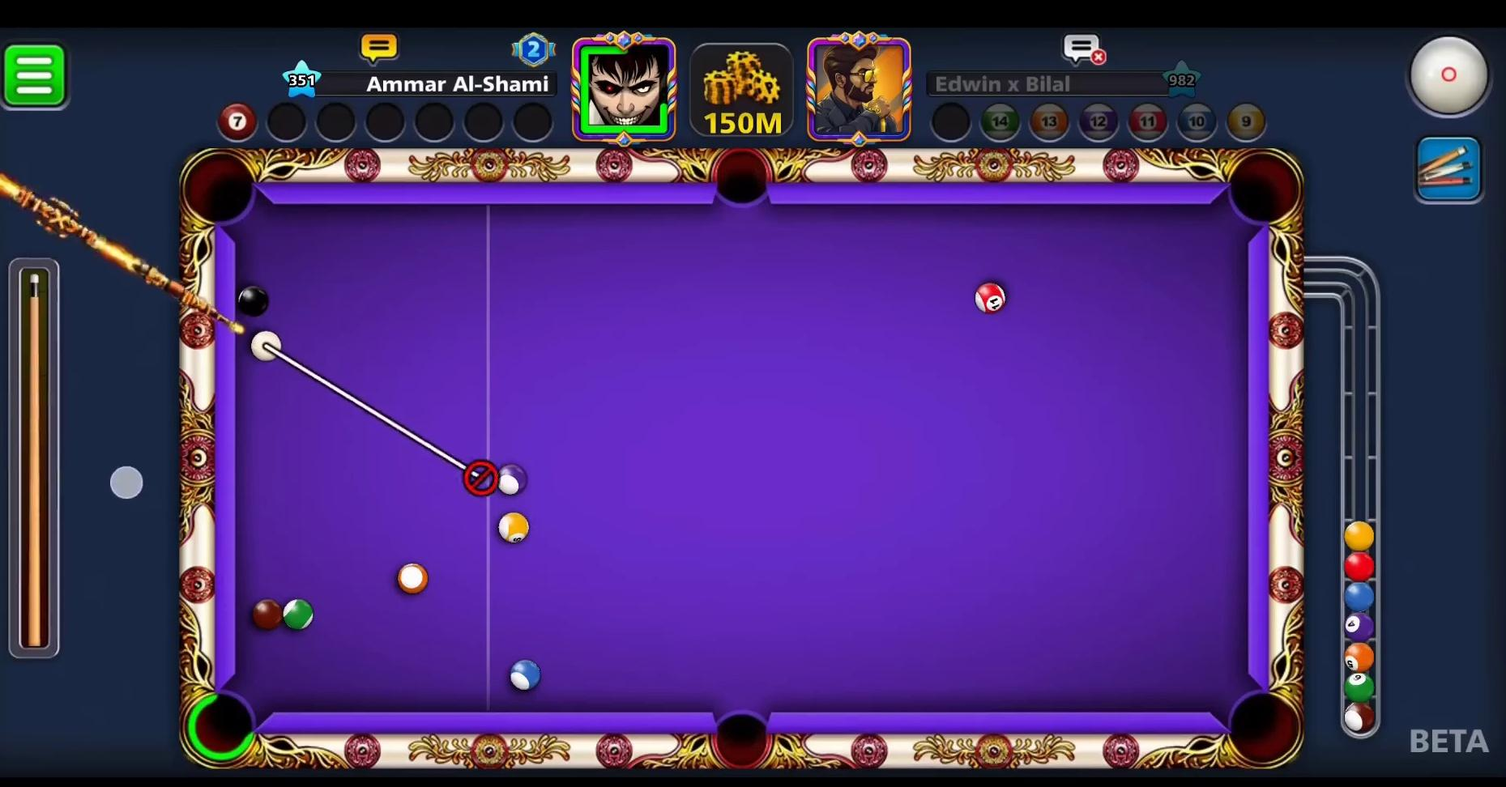Ball: (497, 653, 547, 698), (390, 562, 437, 602), (492, 508, 536, 549), (971, 277, 1009, 320), (245, 596, 287, 633)
Force: (0, 256, 65, 659)
Guideline: (250, 330, 527, 496)
Hole: (1210, 675, 1309, 776), (172, 142, 269, 238), (172, 679, 271, 773), (1217, 143, 1306, 234), (697, 690, 790, 775), (698, 142, 783, 219)
Play_Area: (237, 202, 1245, 717)
Spin: (1402, 28, 1504, 130)
White: (245, 326, 287, 364)
